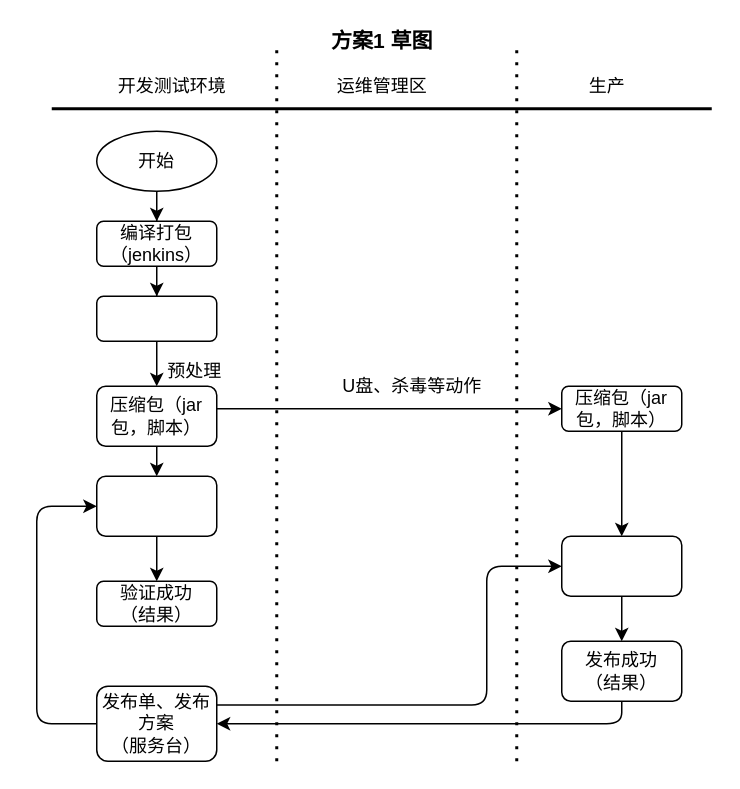
The diagram is 740 pixels wide and 789 high, and some of its shapes have lost their labels. The centre of each missing label's shape, as x and y in pixels:
"制品库" goes at (156,318).
"自动化发布平台（准生产）" goes at (156,505).
"自动化发布平台（生产）" goes at (621,565).
